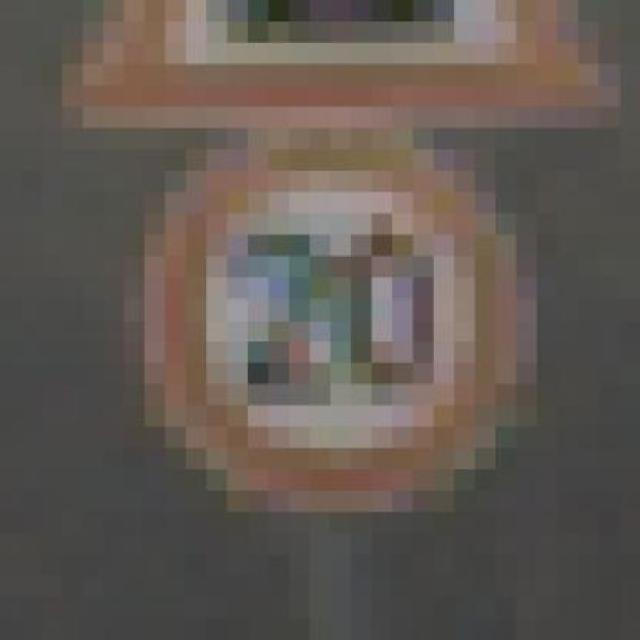forb_speed_over_20: (147, 135, 522, 503)
